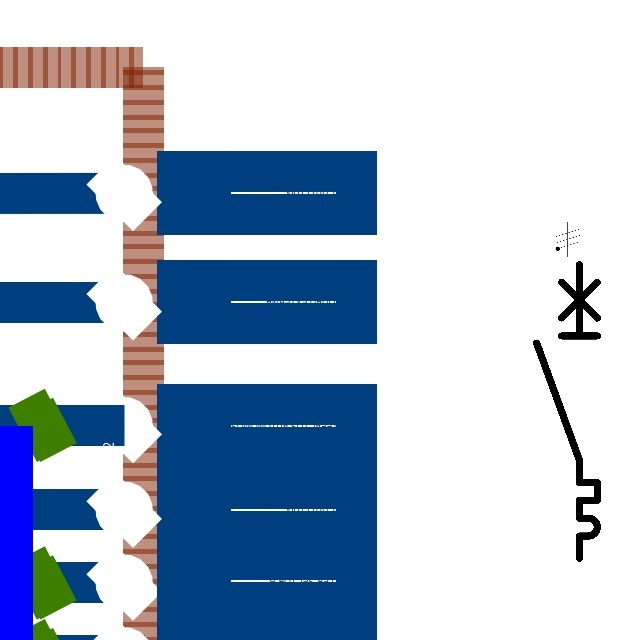interruptor_termomagnetico: (529, 257, 605, 566)
